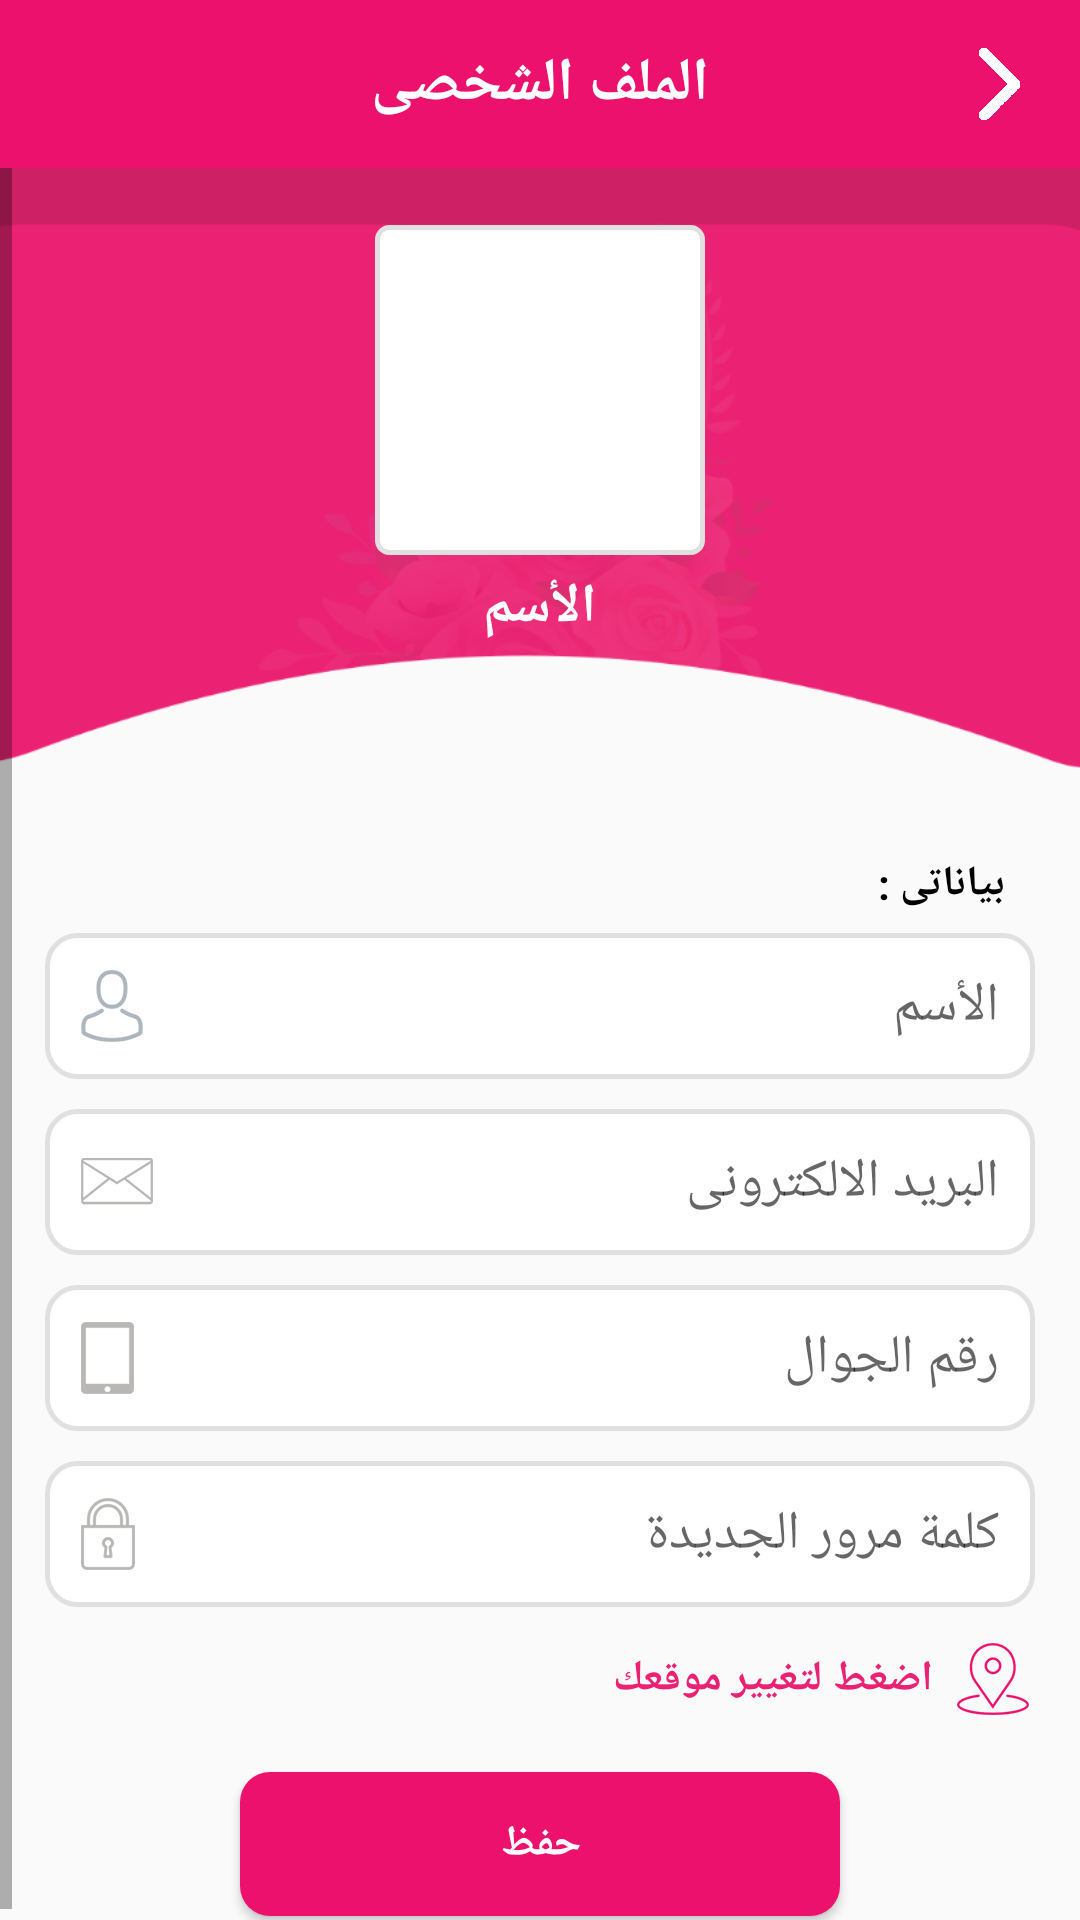

Icons on this 1080*1920 Android screen, each with its box as (x1, y1, x2, y2):
arwo: (979, 48, 1020, 120)
location: (957, 1643, 1029, 1715)
